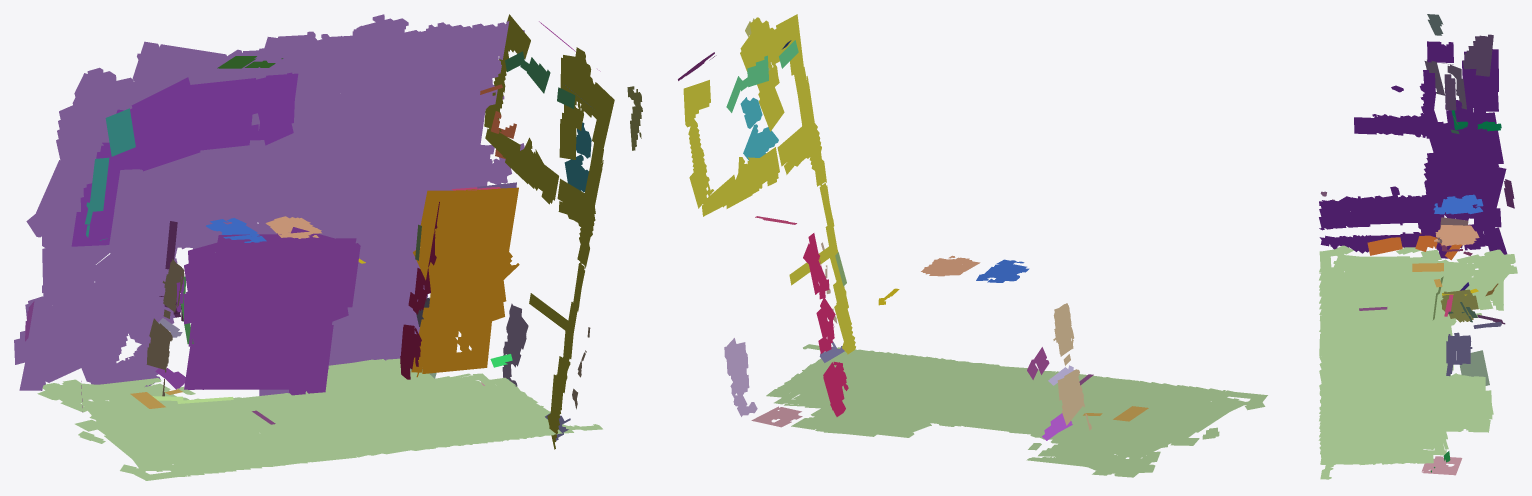
File: d6702c681d_simple.glb
3 renders of one model, left to right at view 1: azimuth 30°, elevation 25°; view 2: azimuth 150°, elevation 25°; view 3: azimuth 270°, elevation 25°, orthographic. The views are drawn at different scales.
Bounding box in the file's own units: 6 × 4.37 × 2.44.
